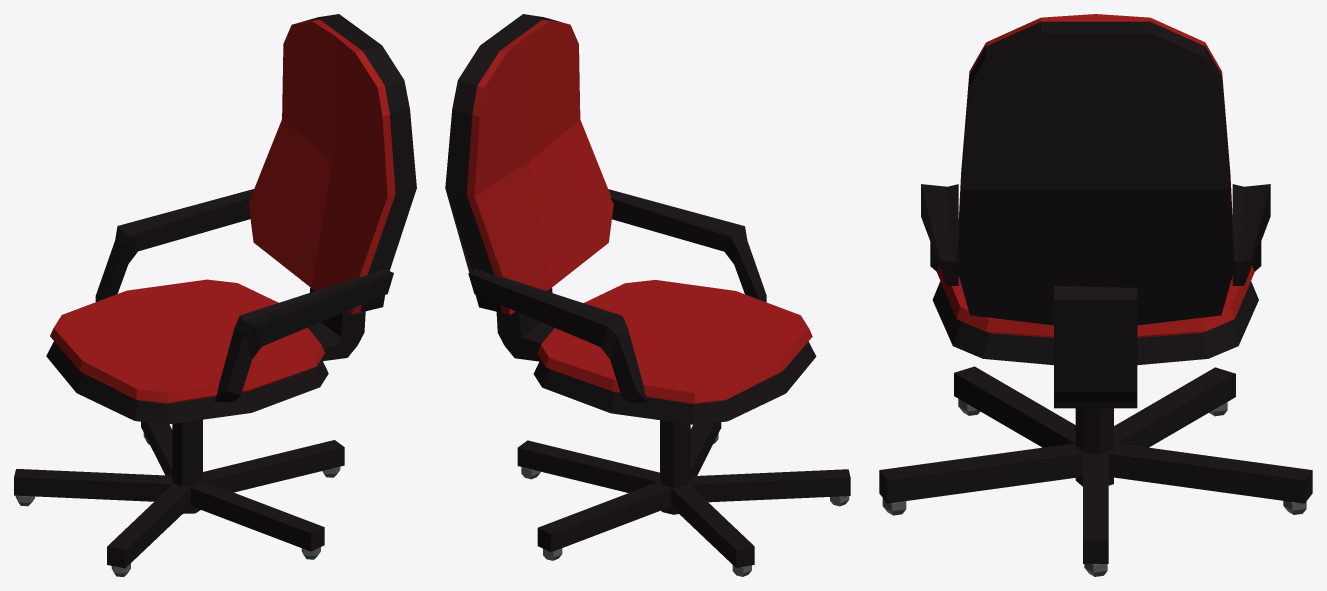
The model's file is chearExp.fbx.
3 renders of one model, left to right at view 1: azimuth 30°, elevation 25°; view 2: azimuth 150°, elevation 25°; view 3: azimuth 270°, elevation 25°, orthographic. The views are drawn at different scales.
Parts seen in each view (by area): view 1: FullSeat; view 2: FullSeat; view 3: FullSeat.
Boxes of the visible parts, x1,y1,x2,y2 form: FullSeat: (14, 14, 416, 576); FullSeat: (445, 14, 850, 576); FullSeat: (879, 14, 1312, 576).
Bounding box in the file's own units: 534 × 740 × 516.
